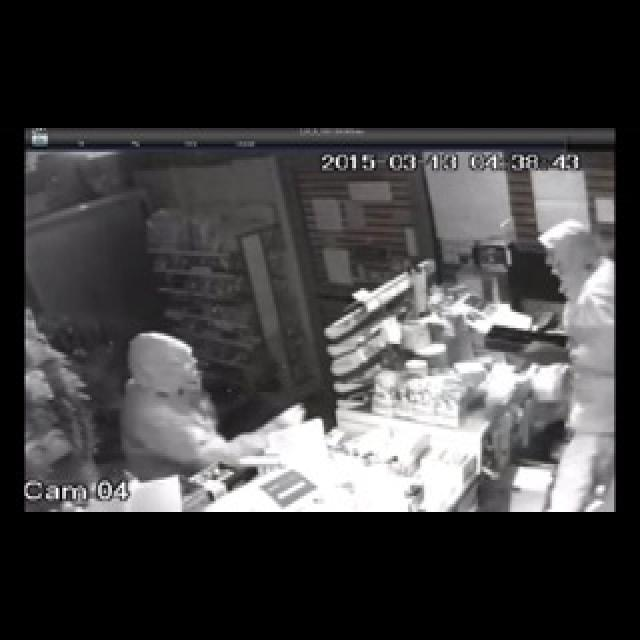thief: (524, 222, 613, 493), (114, 307, 232, 497)
